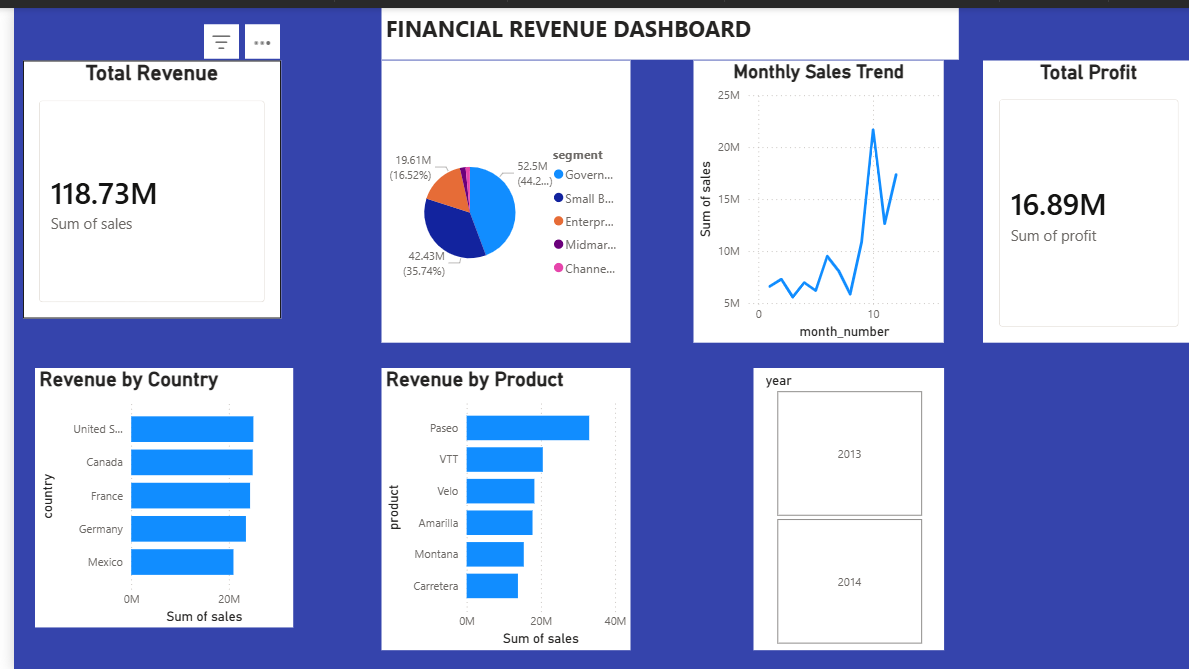

The page's visual inventory and layout, read from the dashboard file:
{"tool":"powerbi","page":{"name":"Page 1","canvas":[1280,720],"ordinal":0},"visuals":[{"type":"cardVisual","title":"Total Revenue","fields":{"Data":["Sum(public financial_sample.sales)"]},"box":[9.8,56.9,279.8,279.8],"z":0},{"type":"clusteredBarChart","title":"Revenue by Country","fields":{"Category":["public financial_sample.country"],"Y":["Sum(public financial_sample.sales)"]},"box":[22.8,390.4,279.8,281.4],"z":1000},{"type":"pieChart","title":"Revenue by Segment","fields":{"Category":["public financial_sample.segment"],"Y":["Sum(public financial_sample.sales)"]},"box":[398.5,56.9,270,305.8],"z":2000},{"type":"clusteredBarChart","title":"Revenue by Product","fields":{"Category":["public financial_sample.product"],"Y":["Sum(public financial_sample.sales)"]},"box":[398.5,390.4,270,305.8],"z":3000},{"type":"lineChart","title":"Monthly Sales Trend","fields":{"Category":["public financial_sample.month_number"],"Y":["Sum(public financial_sample.sales)"]},"box":[736.8,56.9,271.6,305.8],"z":4000},{"type":"textbox","box":[399.2,0,626.1,56.3],"z":5000},{"type":"slicer","fields":{"Values":["public financial_sample.year"]},"box":[801.9,390.4,206.6,305.8],"z":6000},{"type":"cardVisual","title":"Total Profit","fields":{"Data":["Sum(public financial_sample.profit)"]},"box":[1050.7,56.9,229.3,305.8],"z":7000}]}

Visuals, with their boxes in screenshot pixels (x1, y1, x2, y2), scaled from the page's 1280x720 canvas onto the 1189x669 screenshot:
"Total Revenue" cardVisual: 9, 53, 269, 313
"Revenue by Country" clusteredBarChart: 21, 363, 281, 624
"Revenue by Segment" pieChart: 370, 53, 621, 337
"Revenue by Product" clusteredBarChart: 370, 363, 621, 647
"Monthly Sales Trend" lineChart: 684, 53, 937, 337
textbox: 371, 0, 952, 52
slicer - public financial_sample.year: 745, 363, 937, 647
"Total Profit" cardVisual: 976, 53, 1188, 337
